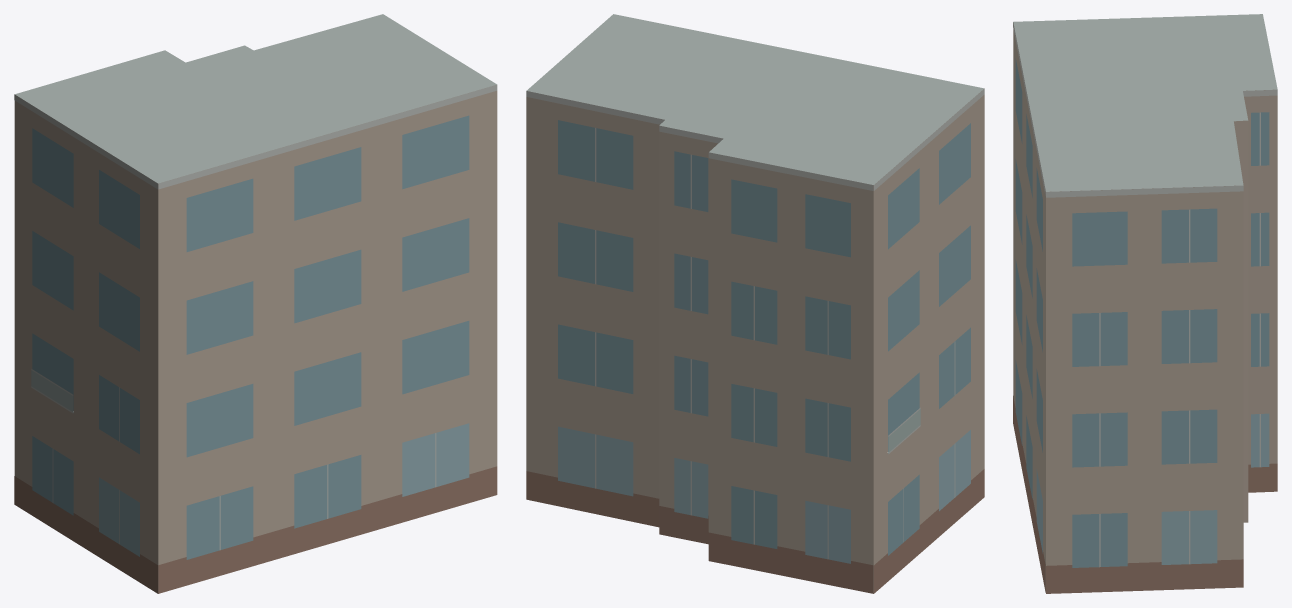
File: survey-upis-32475368.glb
3 renders of one model, left to right at view 1: azimuth 30°, elevation 25°; view 2: azimuth 150°, elevation 25°; view 3: azimuth 270°, elevation 25°, orthographic. The views are drawn at different scales.
Visible parts, largest first — view 1: survey-upis-32475368.tmp; view 2: survey-upis-32475368.tmp; view 3: survey-upis-32475368.tmp.
Part boxes in pixels (bbox=[...]): survey-upis-32475368.tmp: bbox=[14, 14, 497, 593]; survey-upis-32475368.tmp: bbox=[526, 14, 984, 593]; survey-upis-32475368.tmp: bbox=[1013, 14, 1277, 593].
Size of the model in its own units: 15.81 by 16.65 by 9.94.
